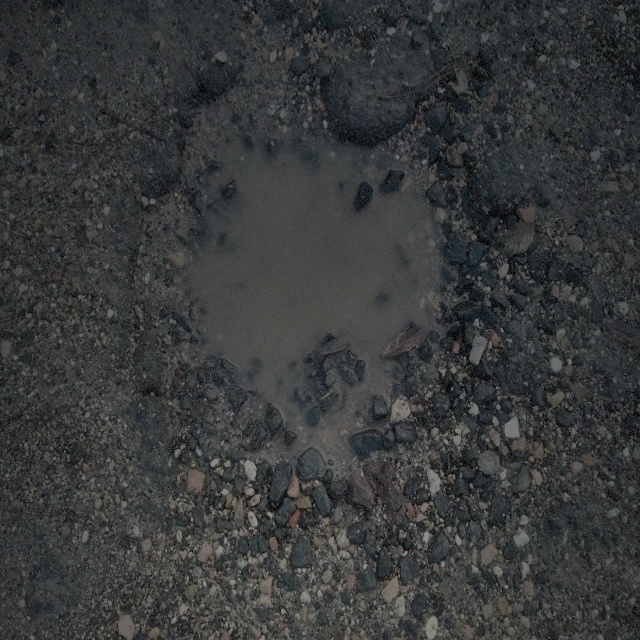pothole: (130, 60, 486, 502)
